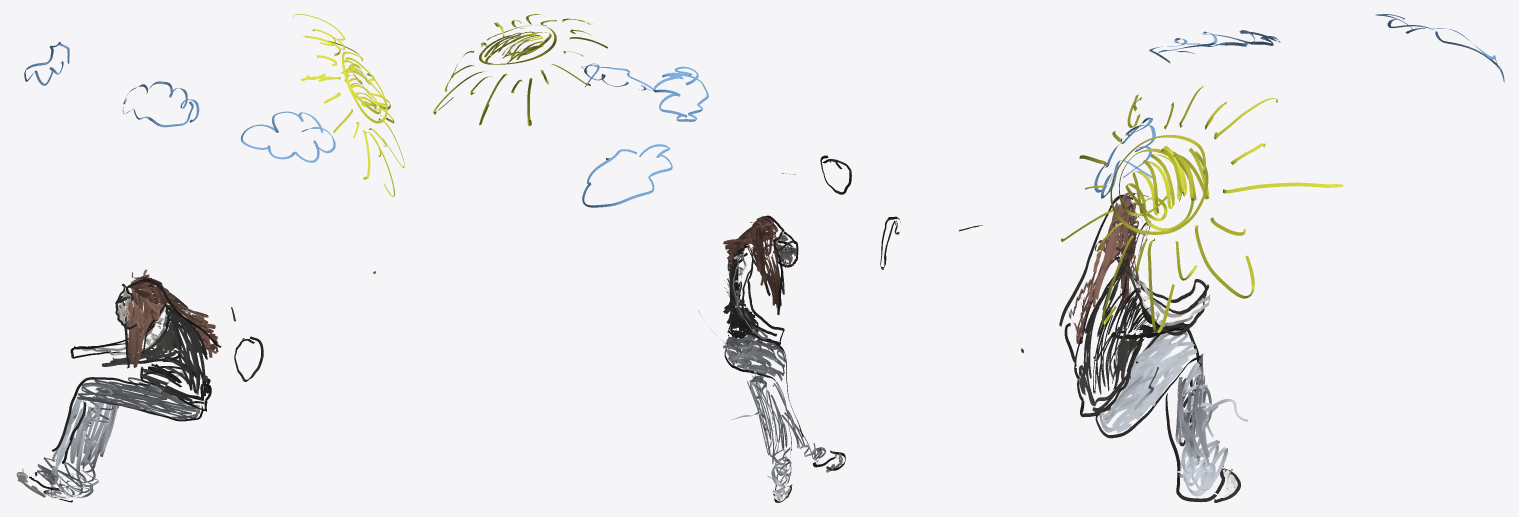
The model's file is 261013_H2_2_edited.glb.
3 renders of one model, left to right at view 1: azimuth 30°, elevation 25°; view 2: azimuth 150°, elevation 25°; view 3: azimuth 270°, elevation 25°, orthographic. The views are drawn at different scales.
Parts seen in each view (by area): view 1: brush_Paper_g0_b0; view 2: brush_Paper_g0_b0; view 3: brush_Paper_g0_b0.
Boxes of the visible parts, x1=… form: brush_Paper_g0_b0: x1=16, y1=14, x2=404, y2=502; brush_Paper_g0_b0: x1=433, y1=14, x2=851, y2=502; brush_Paper_g0_b0: x1=880, y1=14, x2=1504, y2=502.
Size of the model in its own units: 2.36 by 2.4 by 2.37.
1 material, 1 textured.
